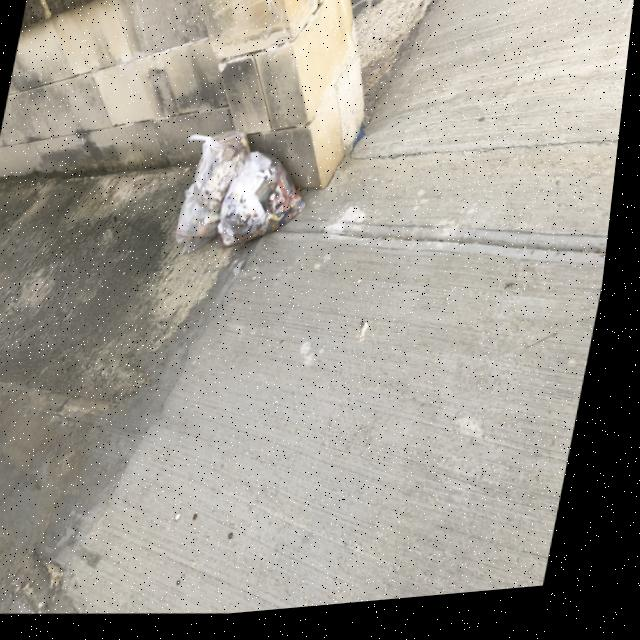Organic Waste -White Bag-: (218, 149, 322, 262), (168, 127, 253, 255)
